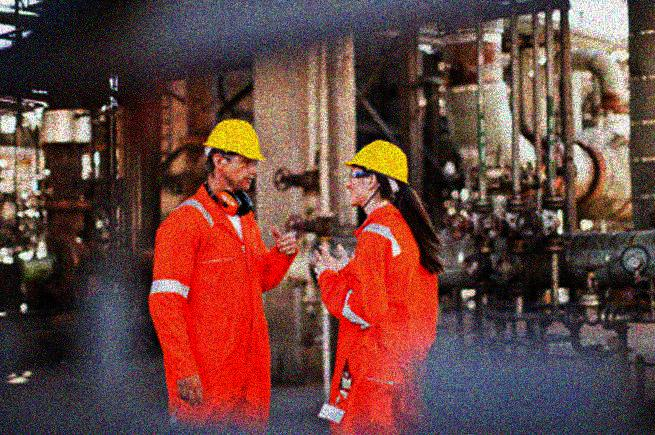helmet: (202, 119, 266, 194), (346, 139, 410, 208)
